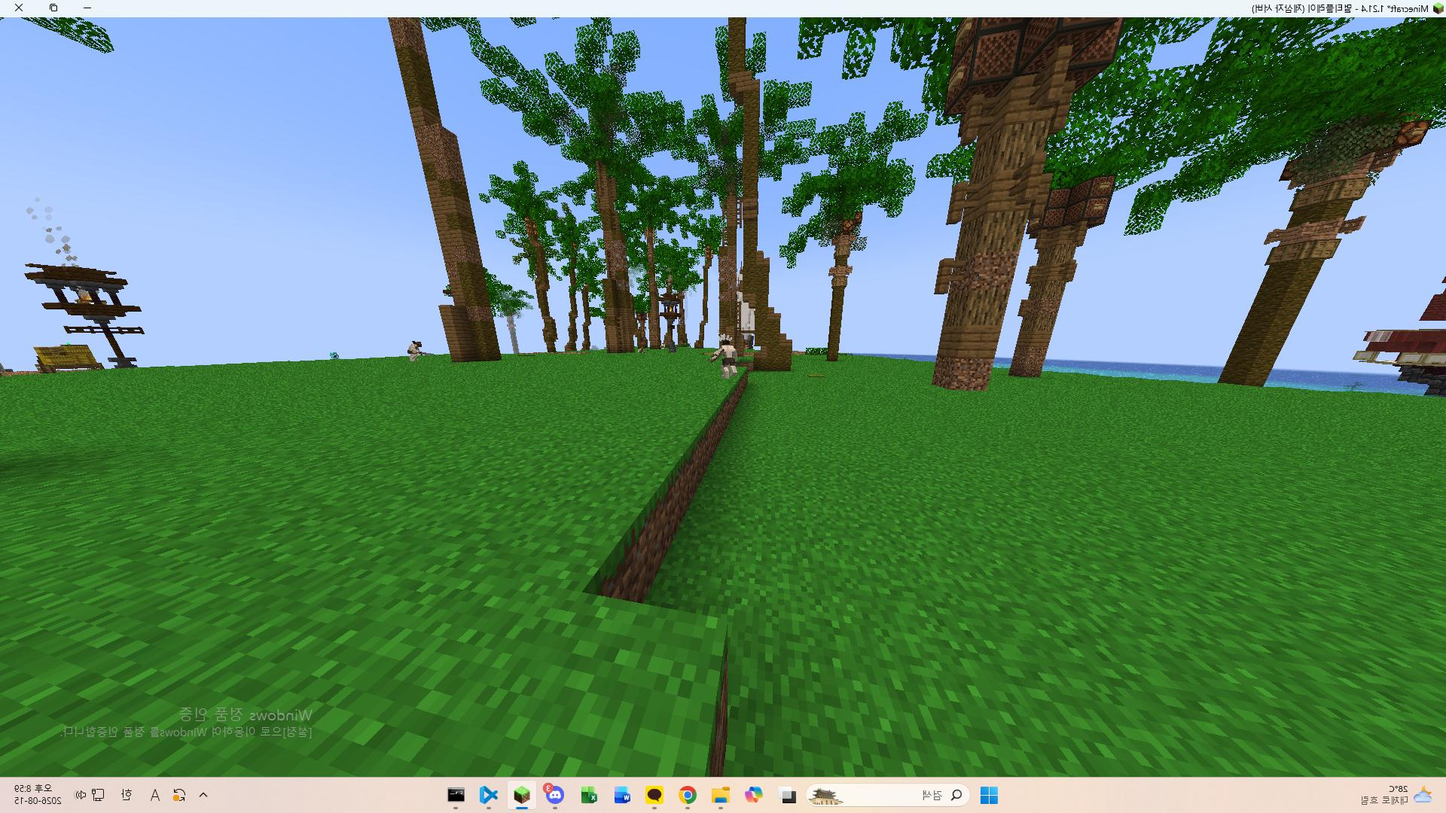bow_indian: (697, 330, 743, 396)
